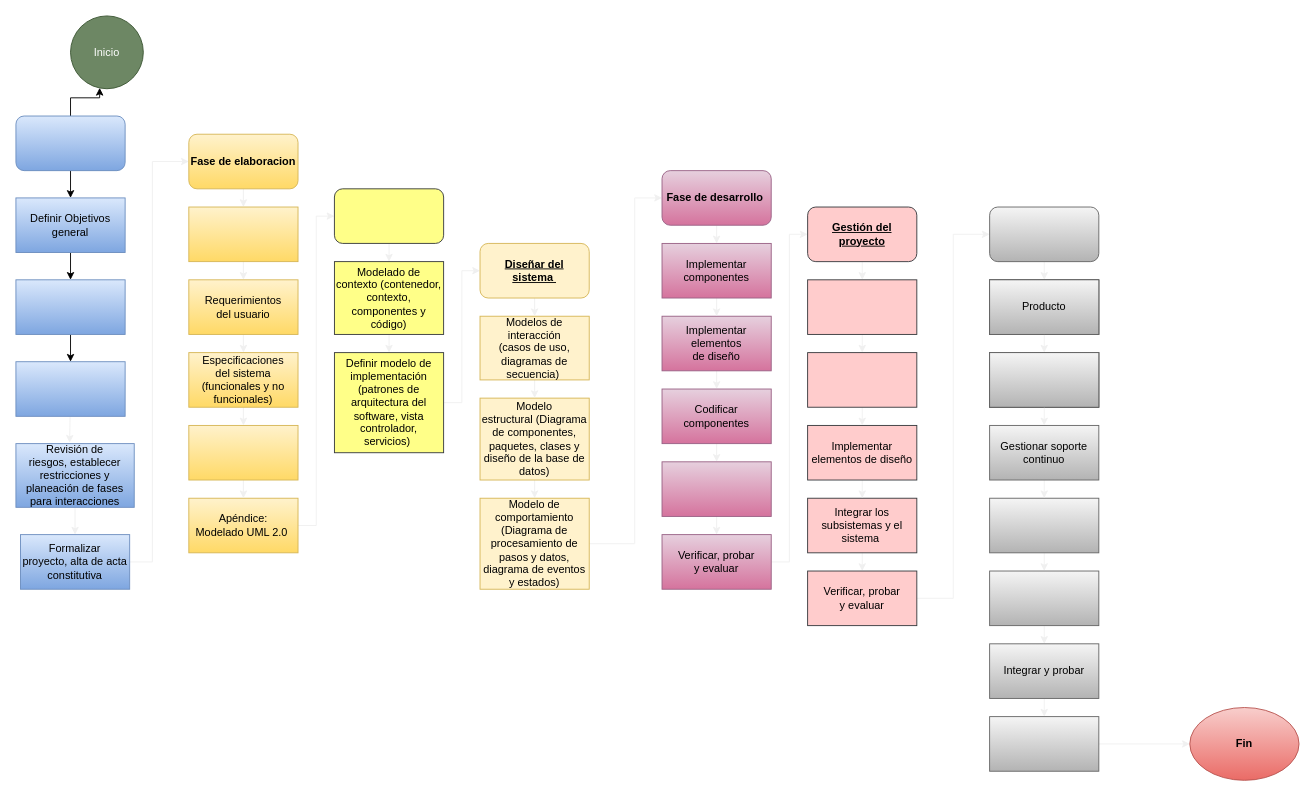
Image size: 1315x796. Some labels were removed from this diagram. Each missing label, with the box of its shape:
Definir la arquitectura adecuada: (334, 188, 444, 243)
Definir objetivos específicos: (15, 279, 125, 334)
Desarrollar componentes restantes: (989, 570, 1099, 626)
Documentación IEEE830: (188, 425, 298, 480)
Fase de inicio: (15, 115, 125, 171)
Fase de t ransición: (989, 206, 1099, 262)
Modelado para el desarrollo de software (planeación): (15, 361, 125, 416)
Perfeccionar la arquitectura y el diseño: (807, 352, 917, 407)
Planear interacciones: (807, 279, 917, 334)
Proporcionar material de soporte: (989, 352, 1099, 407)
Reléase del producto: (989, 716, 1099, 771)
Reparación de defectos en componentes: (989, 497, 1099, 553)
Requerimientos del cliente: (188, 206, 298, 262)
Validar arquitectura: (661, 461, 771, 516)
